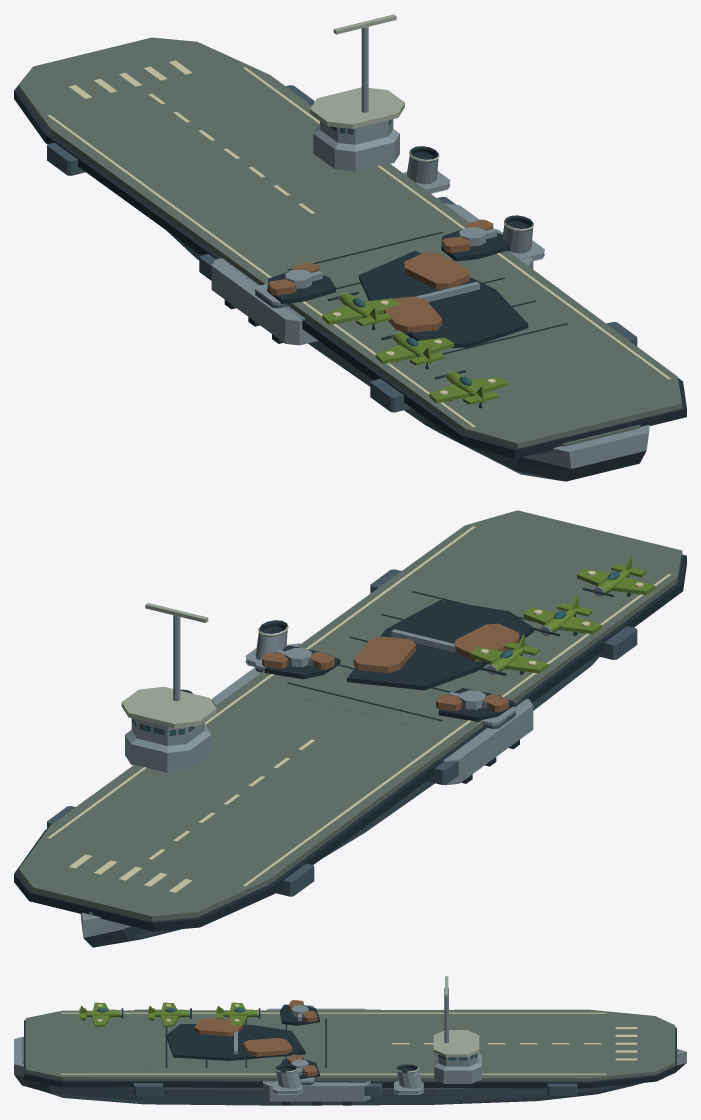
The model's file is historic-sable.glb.
The picture shows the model from 3 angles, top to bottom: view 1: azimuth 30°, elevation 25°; view 2: azimuth 150°, elevation 25°; view 3: azimuth 270°, elevation 25°; orthographic projection. The views are drawn at different scales.
Parts seen in each view (by area): view 1: historic-sable-historic-sable-geometry, historic-sable-part_flight-deck.031-geometry, historic-sable-ruin_flight-deck.030-geometry, historic-sable-part_bridge.071-geometry, historic-sable-parked_aircraft_1.031-geometry, historic-sable-parked_aircraft_0.031-geometry, historic-sable-parked_aircraft_2.031-geometry, historic-sable-ruin_aa-port.072-geometry, historic-sable-ruin_aa-starboard.070-geometry, historic-sable-historic_funnel_0.067-geometry, historic-sable-historic_funnel_1.030-geometry, historic-sable-turret_aa_aa-port.073-geometry; view 2: historic-sable-historic-sable-geometry, historic-sable-part_flight-deck.031-geometry, historic-sable-ruin_flight-deck.030-geometry, historic-sable-part_bridge.071-geometry, historic-sable-parked_aircraft_0.031-geometry, historic-sable-parked_aircraft_2.031-geometry, historic-sable-parked_aircraft_1.031-geometry, historic-sable-ruin_aa-starboard.070-geometry, historic-sable-ruin_aa-port.072-geometry, historic-sable-historic_funnel_1.030-geometry, historic-sable-turret_aa_aa-port.073-geometry; view 3: historic-sable-historic-sable-geometry, historic-sable-part_flight-deck.031-geometry, historic-sable-ruin_flight-deck.030-geometry, historic-sable-part_bridge.071-geometry, historic-sable-historic_funnel_1.030-geometry, historic-sable-historic_funnel_0.067-geometry, historic-sable-ruin_aa-port.072-geometry, historic-sable-parked_aircraft_0.031-geometry, historic-sable-parked_aircraft_1.031-geometry, historic-sable-parked_aircraft_2.031-geometry, historic-sable-ruin_aa-starboard.070-geometry, historic-sable-turret_aa_aa-starboard.071-geometry.
Boxes of the visible parts, x1,y1,x2,y2 form: historic-sable-historic-sable-geometry: (14,37,686,481); historic-sable-part_flight-deck.031-geometry: (287,229,585,376); historic-sable-ruin_flight-deck.030-geometry: (359,251,528,347); historic-sable-part_bridge.071-geometry: (310,14,404,171); historic-sable-parked_aircraft_1.031-geometry: (375,331,454,369); historic-sable-parked_aircraft_0.031-geometry: (429,370,507,408); historic-sable-parked_aircraft_2.031-geometry: (322,291,400,329); historic-sable-ruin_aa-port.072-geometry: (267,262,335,304); historic-sable-ruin_aa-starboard.070-geometry: (441,219,509,261); historic-sable-historic_funnel_0.067-geometry: (403,146,450,193); historic-sable-historic_funnel_1.030-geometry: (502,215,544,261); historic-sable-turret_aa_aa-port.073-geometry: (255,269,311,308); historic-sable-historic-sable-geometry: (14,510,686,947); historic-sable-part_flight-deck.031-geometry: (286,576,582,724); historic-sable-ruin_flight-deck.030-geometry: (347,600,533,690); historic-sable-part_bridge.071-geometry: (121,603,216,772); historic-sable-parked_aircraft_0.031-geometry: (577,556,655,596); historic-sable-parked_aircraft_2.031-geometry: (470,634,548,675); historic-sable-parked_aircraft_1.031-geometry: (523,595,601,636); historic-sable-ruin_aa-starboard.070-geometry: (262,645,340,679); historic-sable-ruin_aa-port.072-geometry: (436,688,514,721); historic-sable-historic_funnel_1.030-geometry: (245,620,288,667); historic-sable-turret_aa_aa-port.073-geometry: (459,690,515,728); historic-sable-historic-sable-geometry: (14,1008,686,1105); historic-sable-part_flight-deck.031-geometry: (130,1017,341,1070); historic-sable-ruin_flight-deck.030-geometry: (166,1018,305,1060); historic-sable-part_bridge.071-geometry: (433,976,481,1083); historic-sable-historic_funnel_1.030-geometry: (272,1064,302,1094); historic-sable-historic_funnel_0.067-geometry: (394,1064,423,1094); historic-sable-ruin_aa-port.072-geometry: (280,1000,319,1025); historic-sable-parked_aircraft_0.031-geometry: (79,1002,123,1027); historic-sable-parked_aircraft_1.031-geometry: (148,1002,191,1027); historic-sable-parked_aircraft_2.031-geometry: (216,1002,260,1026); historic-sable-ruin_aa-starboard.070-geometry: (280,1054,319,1079); historic-sable-turret_aa_aa-starboard.071-geometry: (291,1059,314,1085).
Size of the model in its own units: 1.72 by 1.31 by 5.89.
